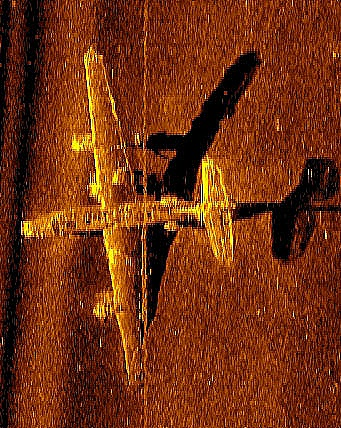aircraft: (17, 42, 237, 392)
